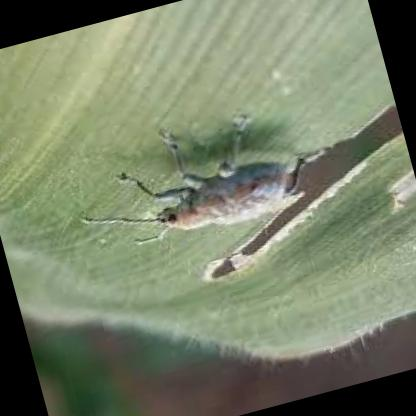ash weevil: (152, 120, 302, 231)
